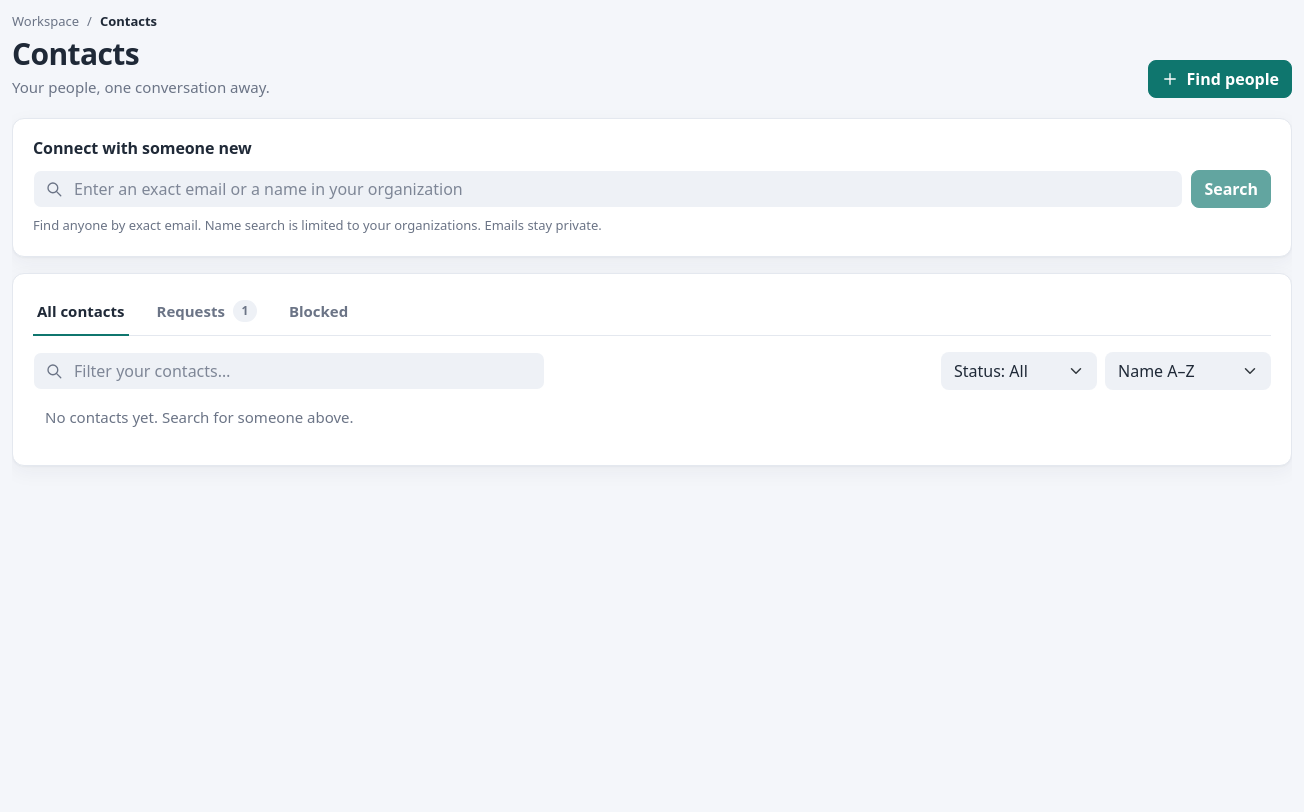
Test: ContactsPage › finds a person, sends a request and answers an incoming one
Note: Requests live in their own tab, with a count.
Step 1. Click the tab "Requests 1" → (207, 313), box top-left (152, 290), bottom-right (261, 336)
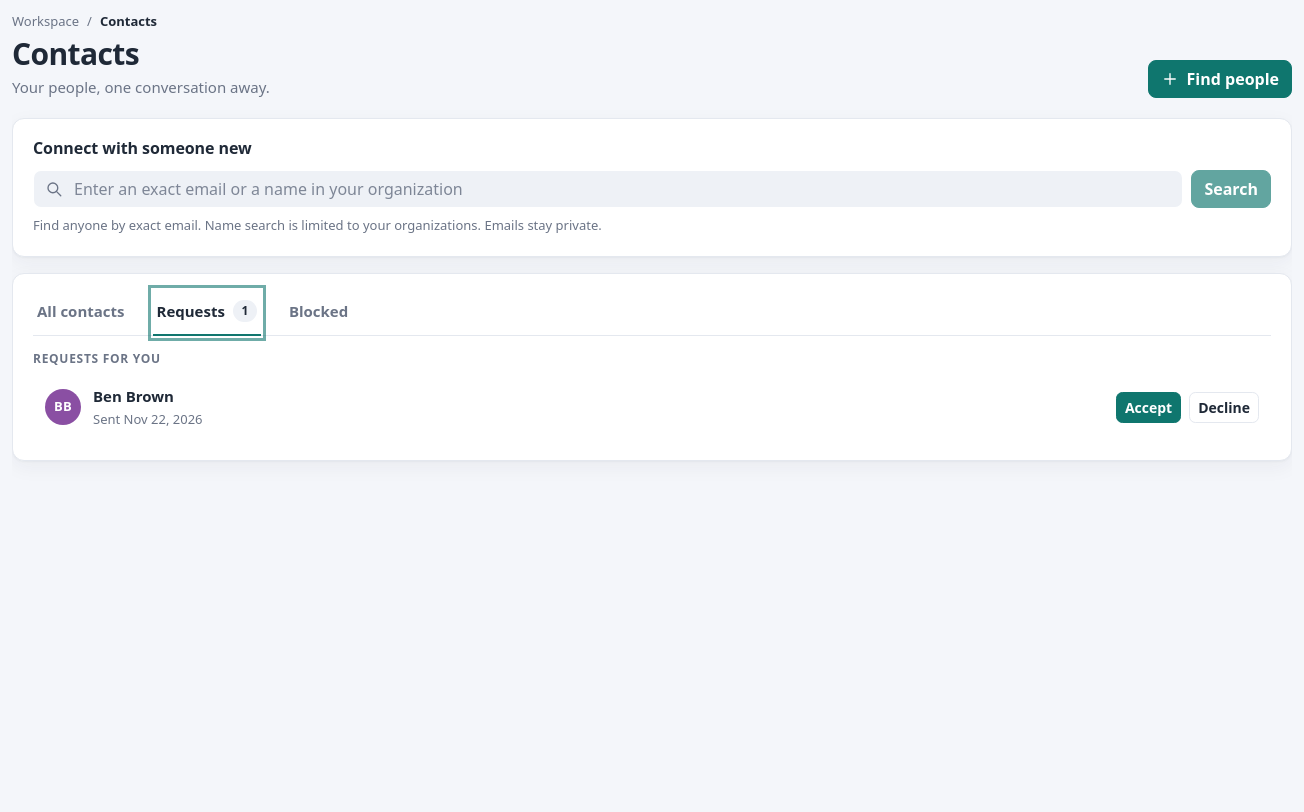
Step 2. Click the button "Accept" → (1149, 407), box top-left (1116, 392), bottom-right (1181, 423)
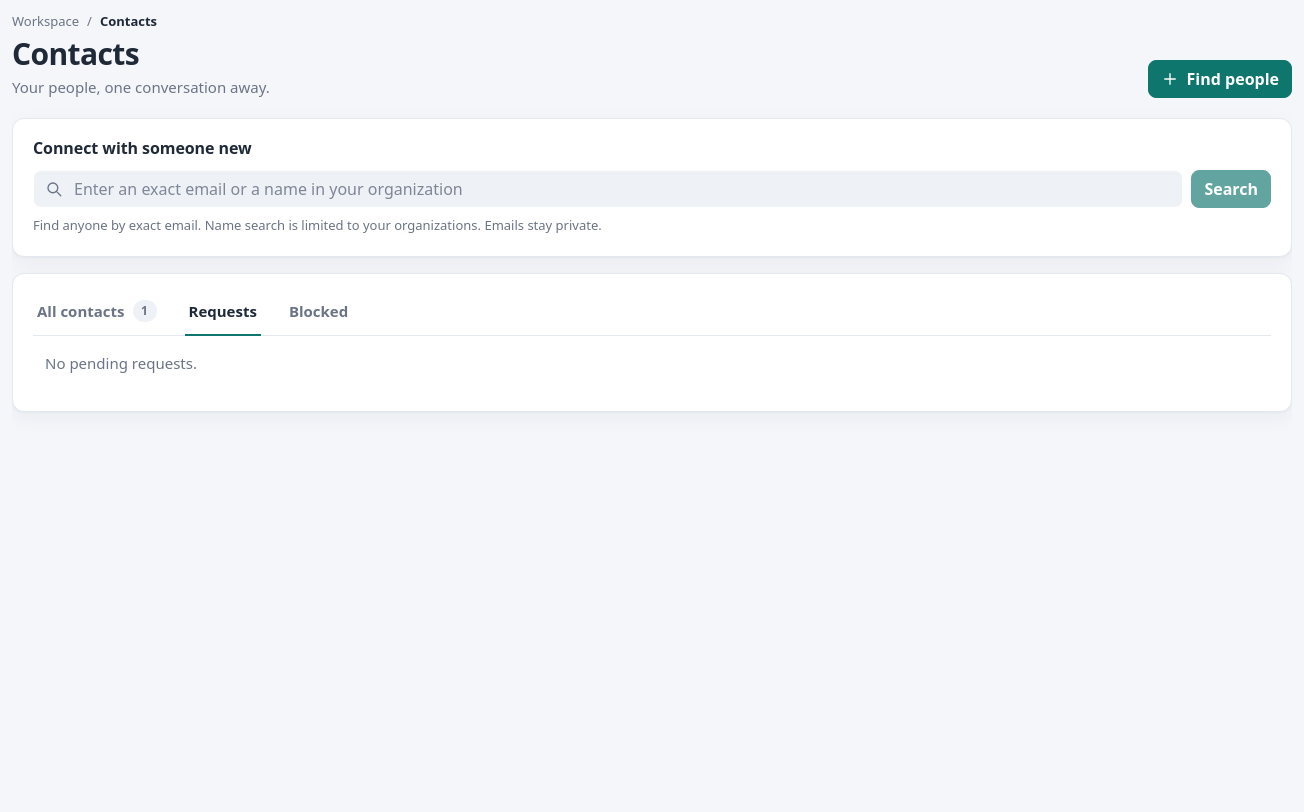
Step 3. Click the tab "All contacts 1" → (97, 313), box top-left (33, 290), bottom-right (160, 336)
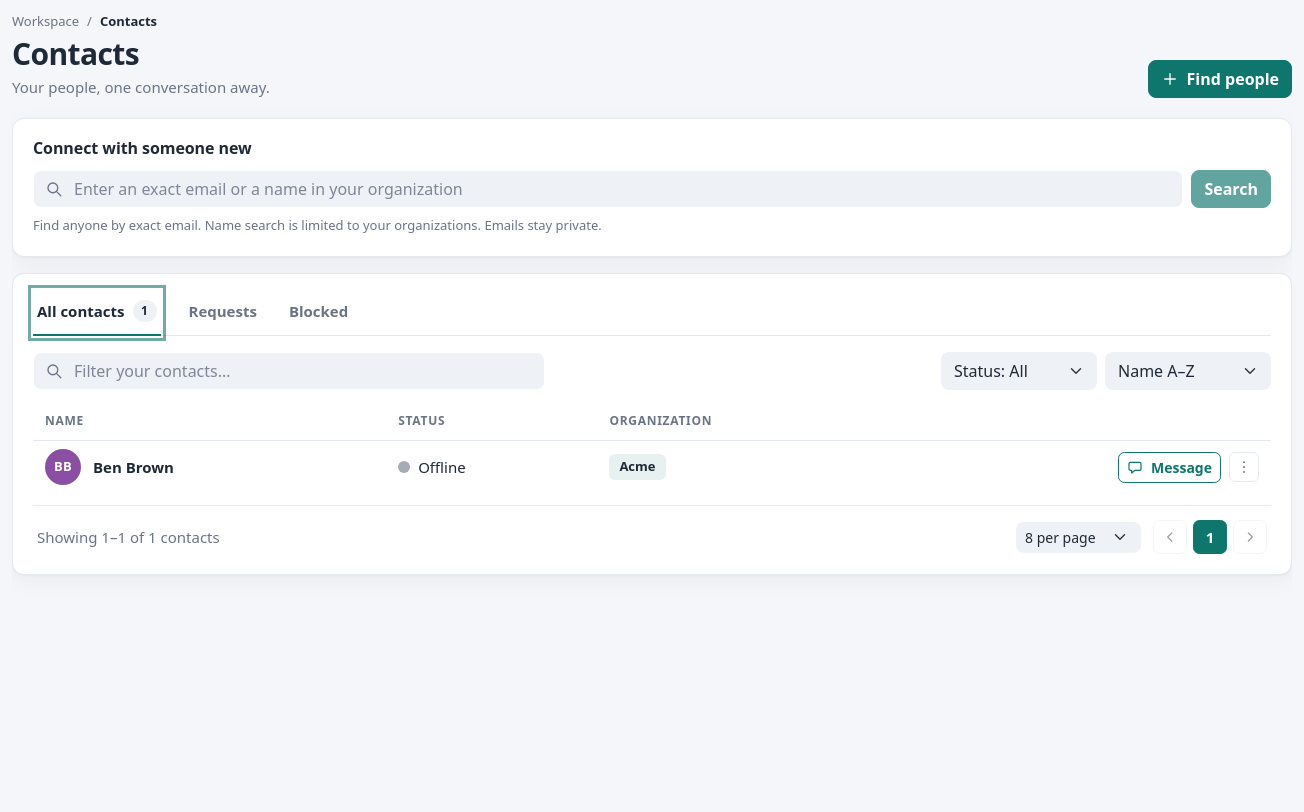
Result: the text "Acme" is shown at top-left (609, 454), bottom-right (666, 480)
Result: the text "Offline" is shown at top-left (398, 456), bottom-right (466, 478)
Step 4. Type "ben@example.org" into the search field named "Email address or name" → (608, 189), box top-left (33, 170), bottom-right (1183, 208)
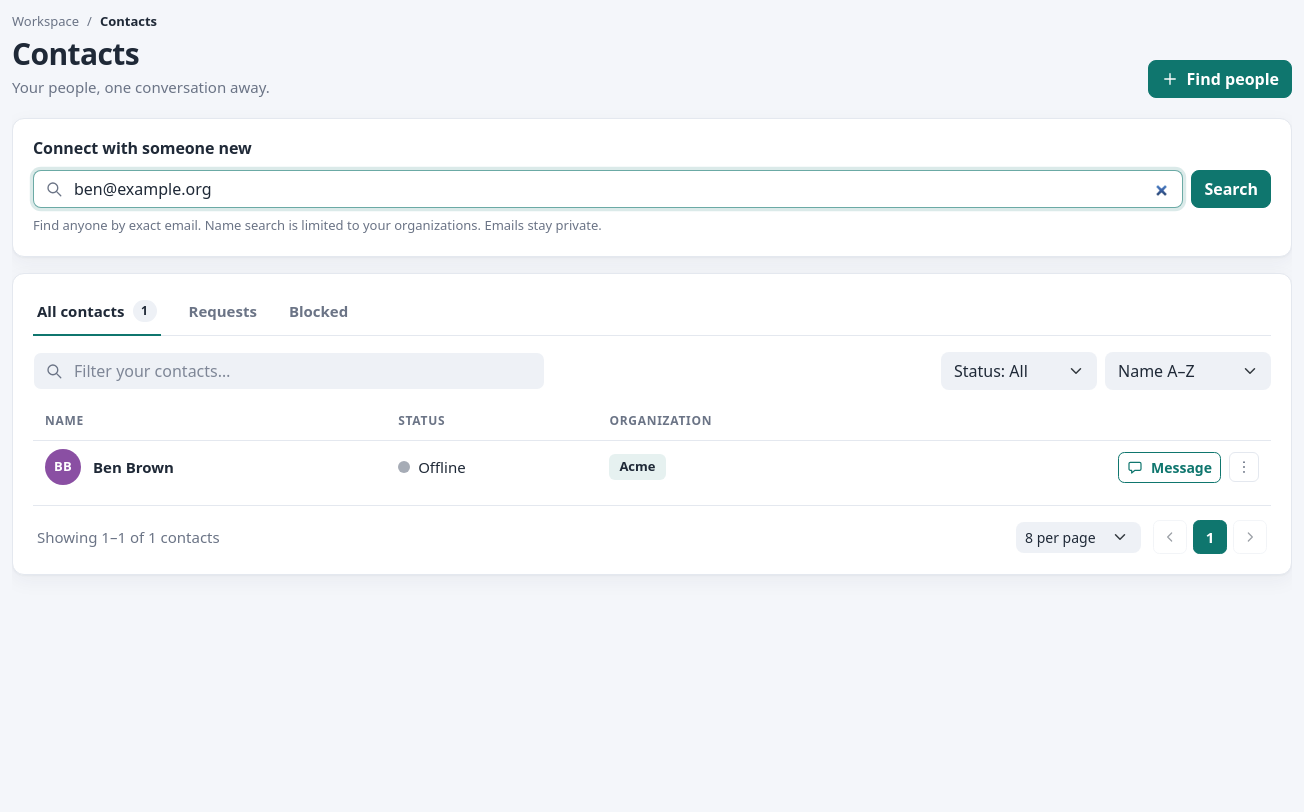
Step 5. Click the button "Search" → (1231, 189), box top-left (1191, 170), bottom-right (1271, 208)
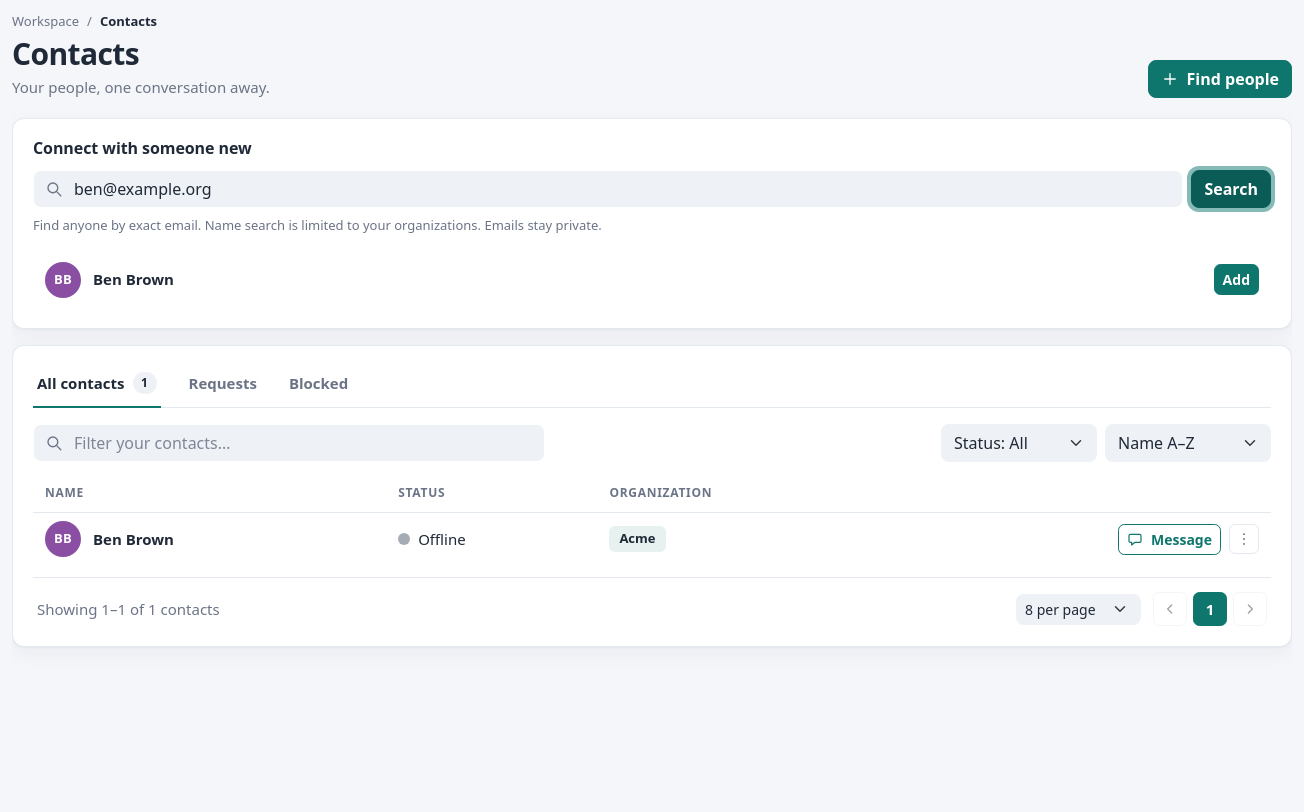
Step 6. Click the button "Add" → (1236, 280), box top-left (1214, 264), bottom-right (1259, 295)
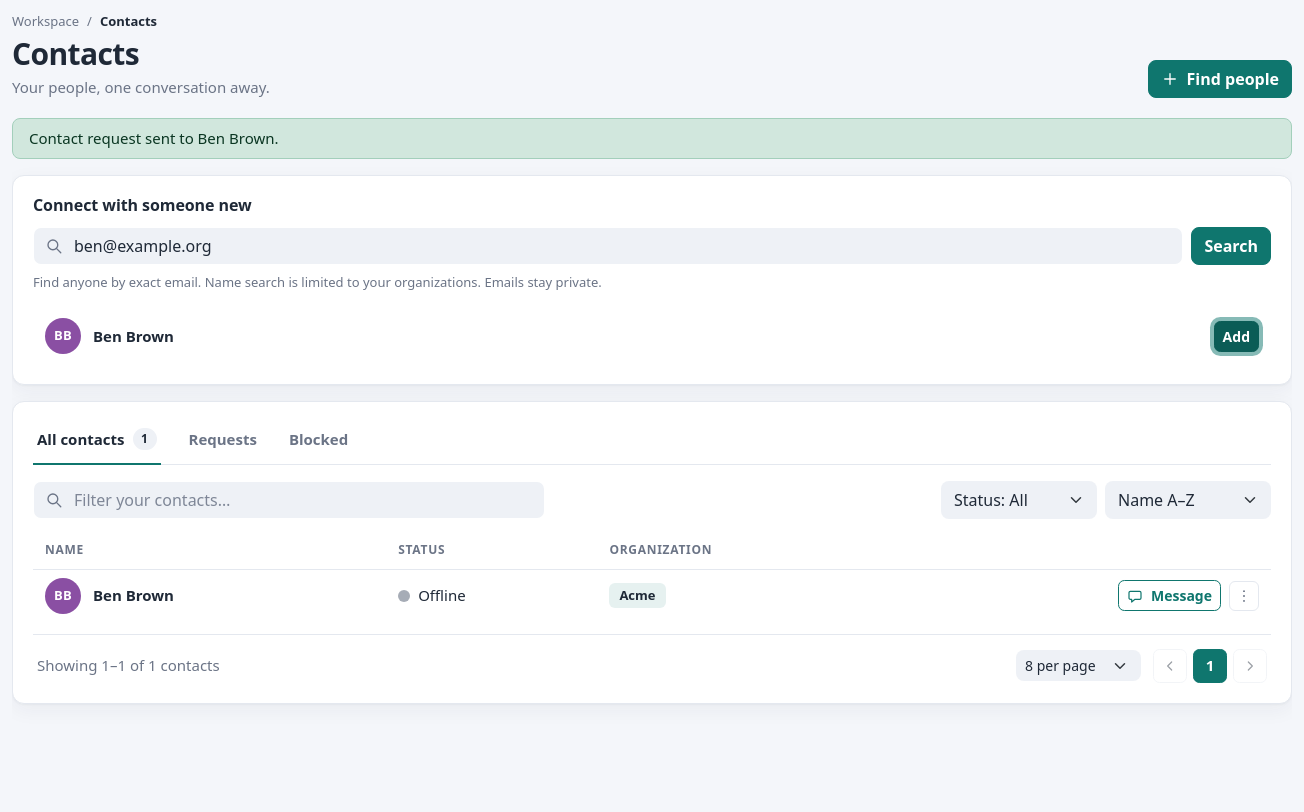
Result: the text "Contact request sent to Ben Brown." is shown at top-left (12, 118), bottom-right (1292, 158)
